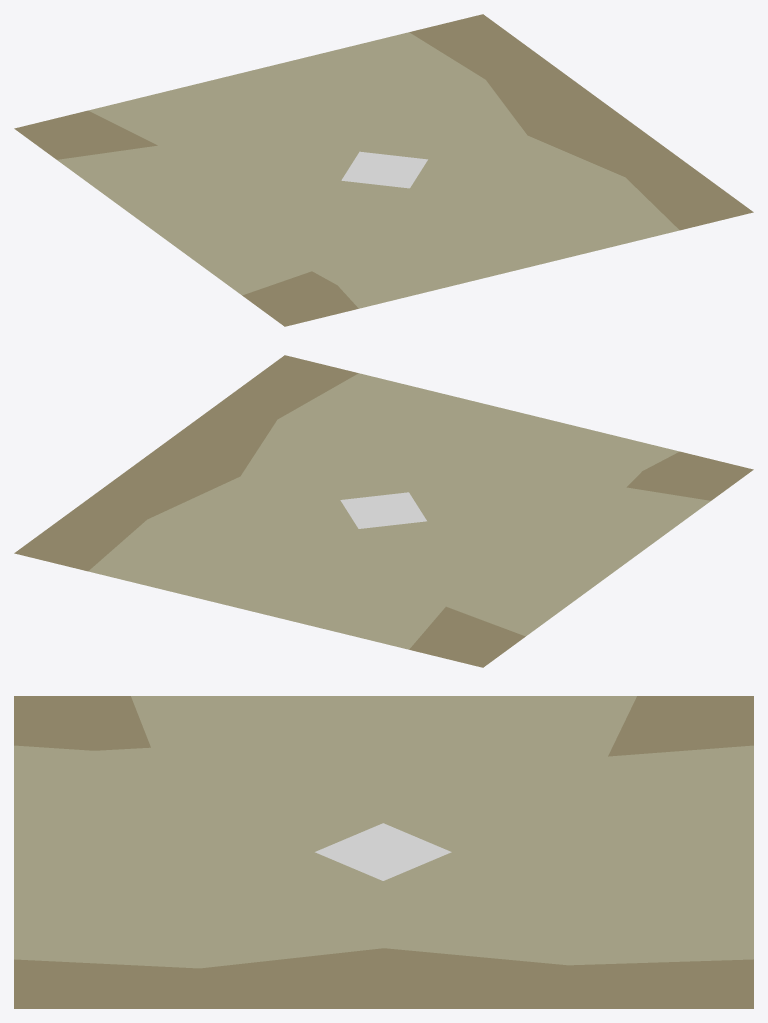
File: Run Right to Left and Right.fbx
3 views of the same model, one above another, from view 1: azimuth 30°, elevation 25°; view 2: azimuth 150°, elevation 25°; view 3: azimuth 270°, elevation 25° (orthographic). The views are drawn at different scales.
Visible parts, largest first — view 1: polySurface7444; view 2: polySurface7444; view 3: polySurface7444.
Boxes of the visible parts, x1,y1,x2,y2 form: polySurface7444: (14,14,753,326); polySurface7444: (14,355,753,667); polySurface7444: (14,696,753,1008).
Size of the model in its own units: 100 by 0.1 by 100.
